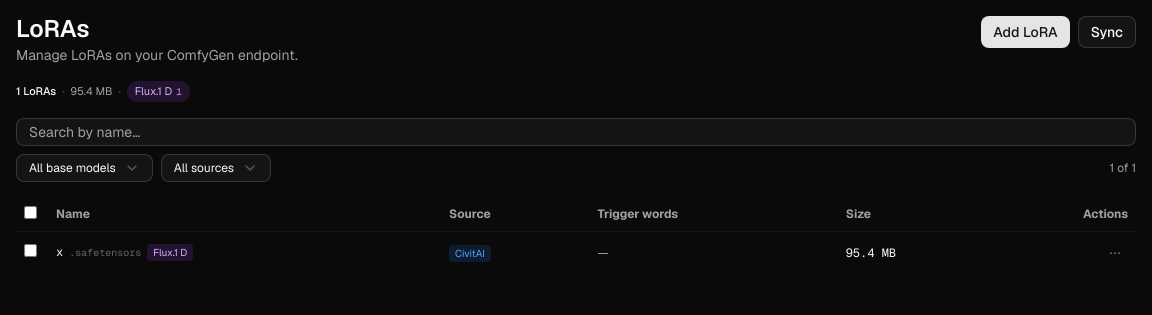
LorasPageBody — action hierarchy (sgs-ui-eqc.6) › per-row Delete moved behind overflow menu (not inline)
expect the button "Delete" is not shown: met
It lives behind the ⋯ overflow.
Click the button named "More actions for x.safetensors".
click(1115, 252)  # box [1102,240,1128,266]
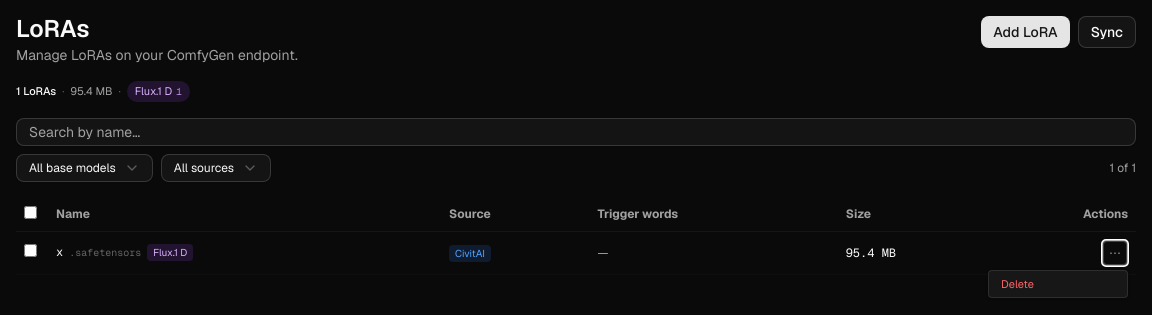
expect the menu item "Delete" is shown: met, box [989,270,1127,297]
